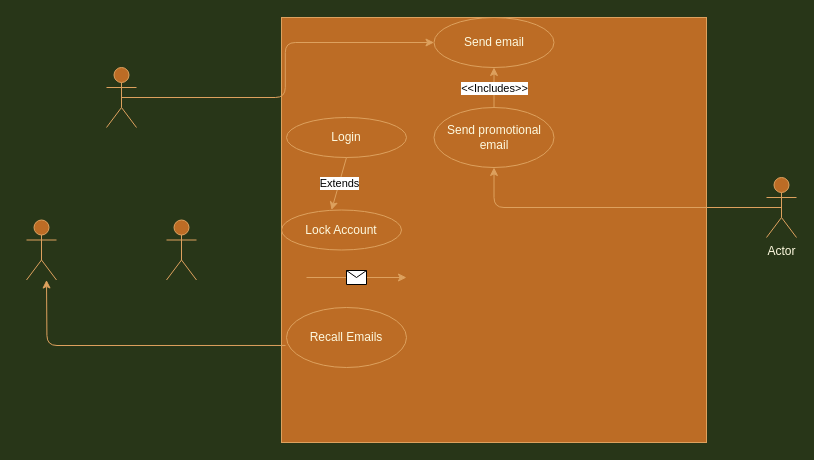
This 814x460 diagram has some shape labels left out. Each missing label, with the centre of its shape:
Customers: pixel 121 97
Free: pixel 181 249
Premium: pixel 41 249
